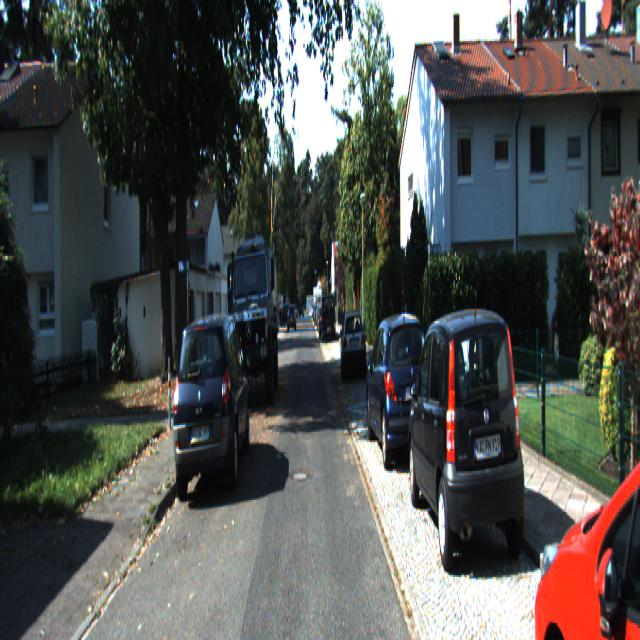Car: (405, 306, 530, 581), (172, 308, 253, 508), (367, 306, 437, 474), (230, 224, 278, 390), (340, 305, 368, 379), (320, 293, 334, 342)
